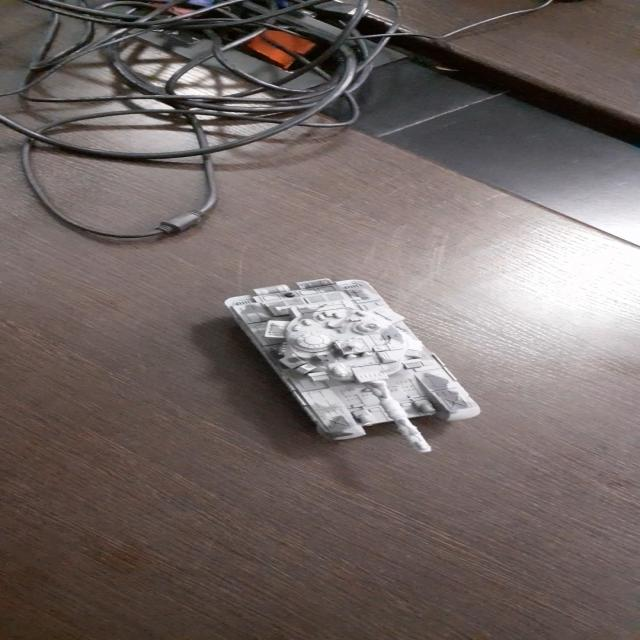tank: (221, 280, 482, 456)
